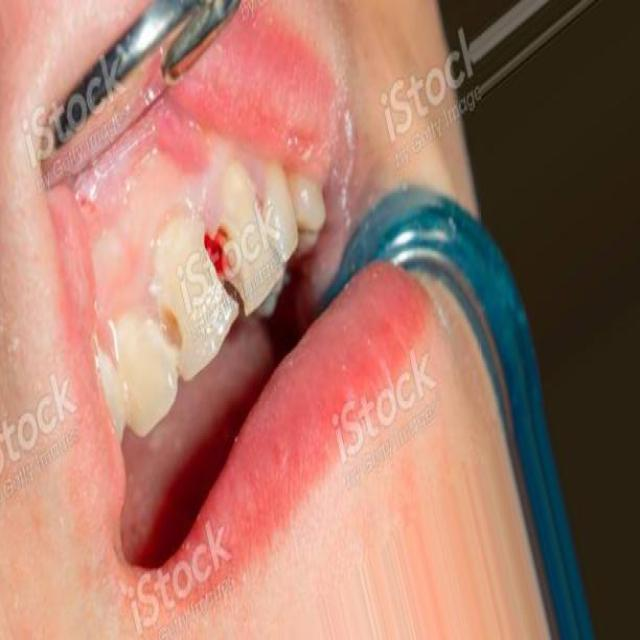caries: (199, 214, 246, 291), (149, 292, 186, 362)
